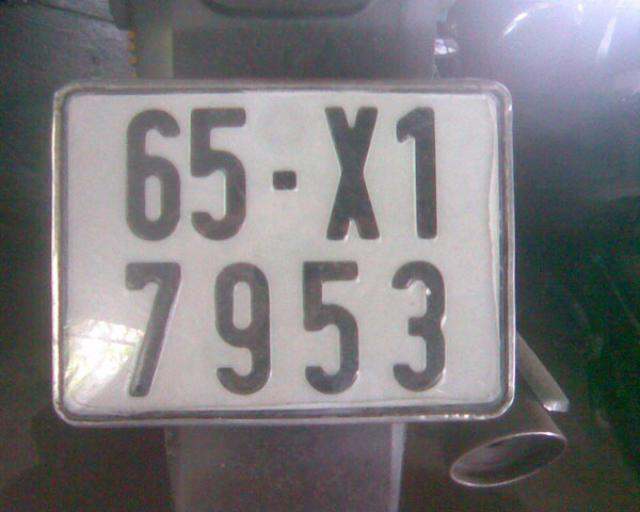plate: (57, 84, 507, 426)
